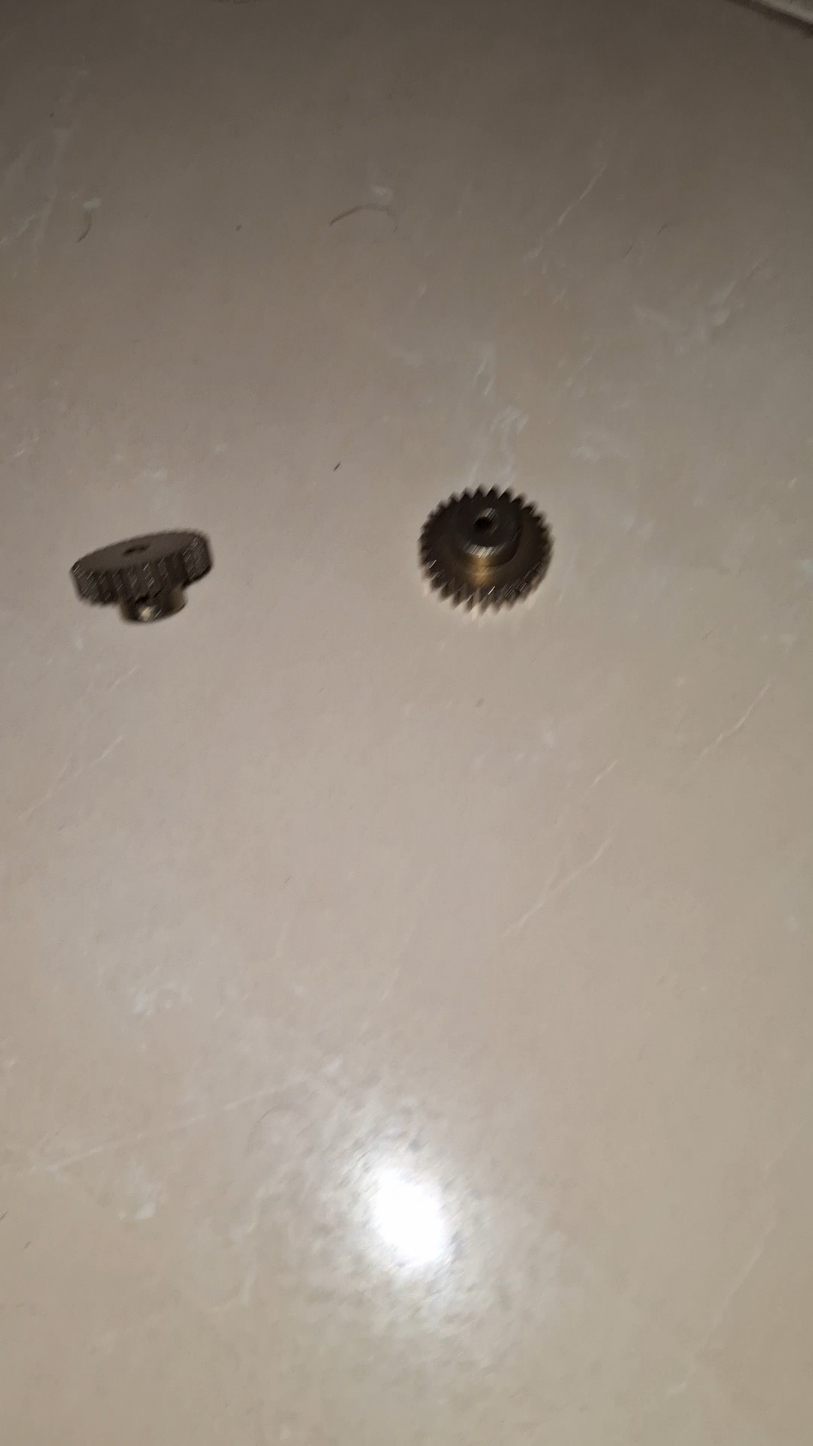spur gear: (419, 489, 551, 607), (71, 532, 212, 622), (739, 0, 813, 35)
